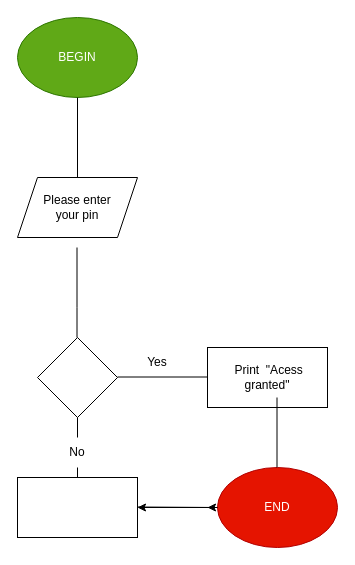
Some shapes in this 355 by 565 pixel diagram are drawn without their labels. The shapes that lost their labels are listed below. From the top down, each one's box as (x1, y1, x2, y2) in pixels, then its label:
(36, 336, 118, 418): Is the password correct?
(16, 476, 138, 538): Print "Acess denied"
